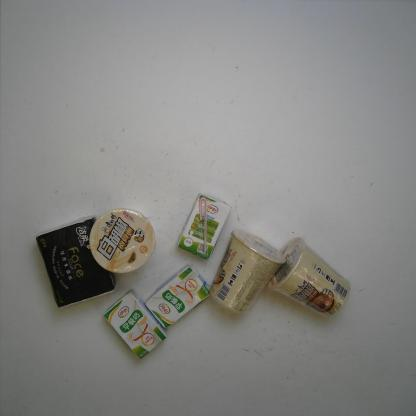Instant Noodles: (206, 226, 290, 316), (267, 234, 353, 320), (89, 204, 156, 276)
Milk: (101, 287, 168, 363), (144, 262, 215, 330), (175, 192, 233, 262)
Tissue: (36, 209, 121, 310)
